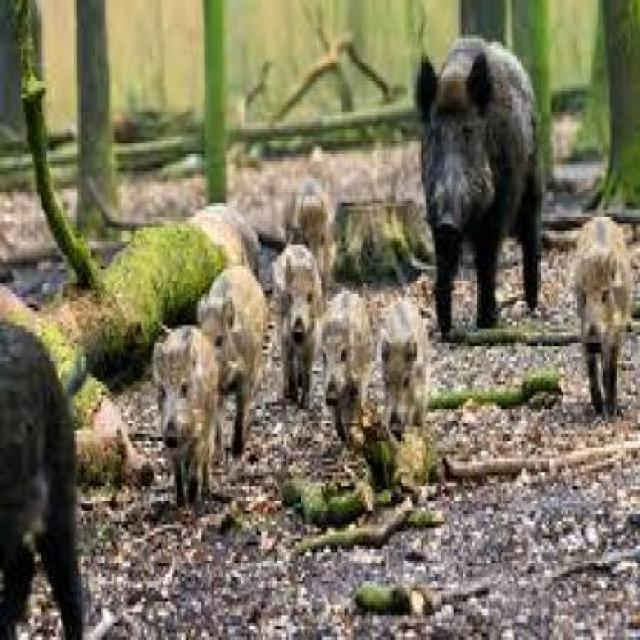wildboar: (408, 32, 550, 343), (0, 318, 91, 640), (191, 258, 275, 470), (569, 210, 637, 427), (151, 318, 223, 511), (374, 294, 438, 458), (315, 279, 377, 446), (274, 240, 324, 411), (284, 169, 336, 333)
